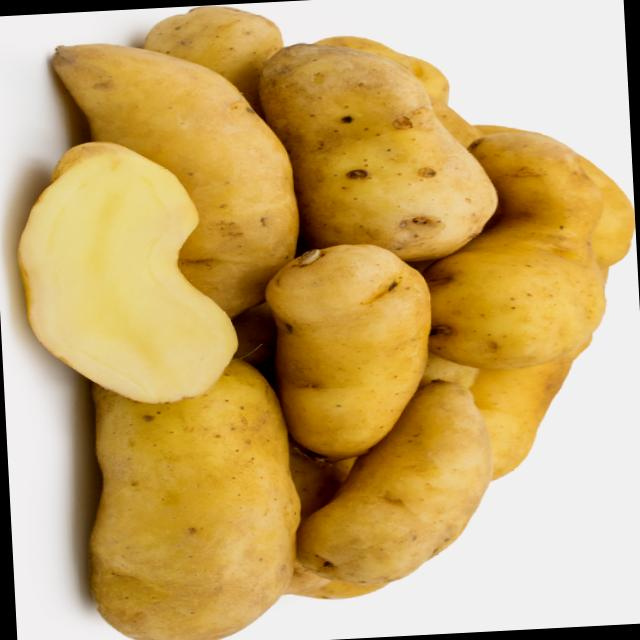potato: (53, 26, 309, 329), (72, 358, 299, 640), (272, 30, 504, 268), (284, 366, 502, 582), (268, 239, 444, 463)
